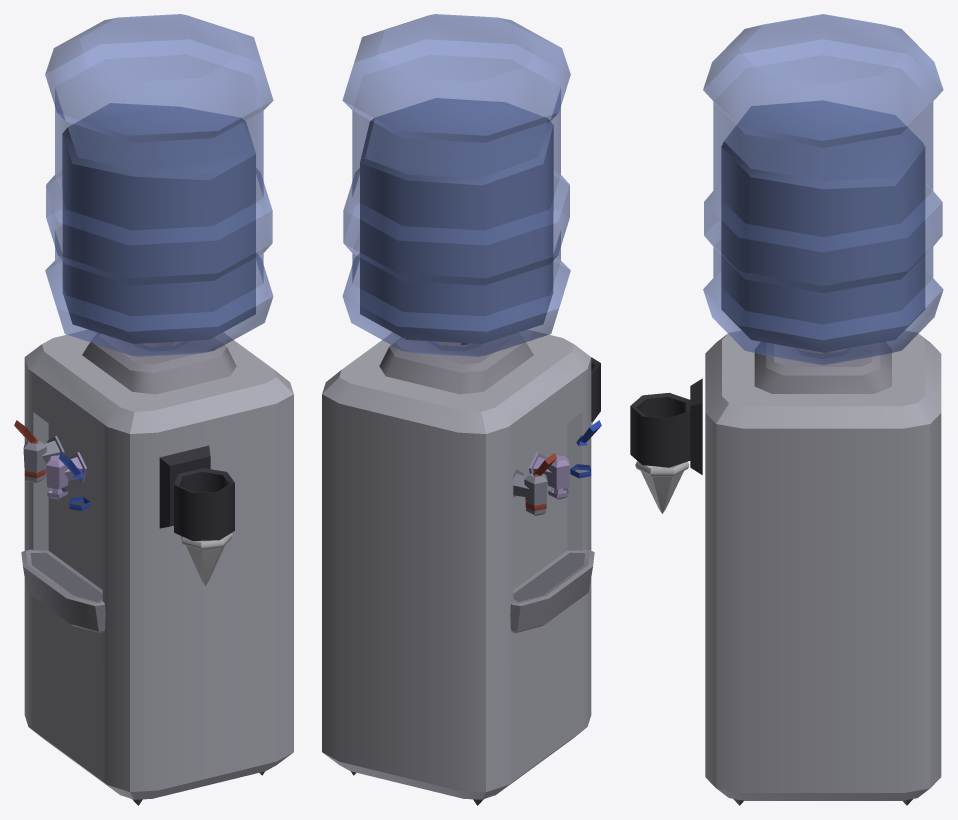
Rendered from sf_water_cooler.glb.
3 renders of one model, left to right at view 1: azimuth 30°, elevation 25°; view 2: azimuth 150°, elevation 25°; view 3: azimuth 270°, elevation 25°, orthographic.
Parts seen in each view (by area): view 1: Object_5, Object_11, Object_12, Object_3, Object_8, Object_4, Object_2, Object_6, Object_7; view 2: Object_5, Object_11, Object_12, Object_3, Object_4, Object_7, Object_6, Object_8; view 3: Object_5, Object_11, Object_12, Object_3, Object_8, Object_2.
Boxes of the visible parts, box(x1,y1,x2,y2) form: Object_5: box(24, 330, 293, 799); Object_11: box(45, 14, 273, 356); Object_12: box(62, 103, 255, 343); Object_3: box(21, 333, 236, 632); Object_8: box(159, 445, 234, 540); Object_4: box(30, 552, 264, 805); Object_2: box(180, 533, 232, 585); Object_6: box(46, 452, 86, 499); Object_7: box(23, 436, 64, 483); Object_5: box(322, 329, 591, 799); Object_11: box(342, 14, 570, 356); Object_12: box(360, 98, 553, 343); Object_3: box(379, 333, 594, 632); Object_4: box(351, 552, 585, 805); Object_7: box(513, 468, 547, 515); Object_6: box(529, 452, 569, 499); Object_8: box(591, 357, 600, 422); Object_5: box(705, 331, 941, 800); Object_11: box(703, 14, 943, 365); Object_12: box(721, 100, 925, 352); Object_3: box(754, 342, 891, 393); Object_8: box(630, 378, 702, 474); Object_2: box(635, 461, 689, 513).
Bounding box in the file's own units: 0.4255 × 1.32 × 0.5134.
